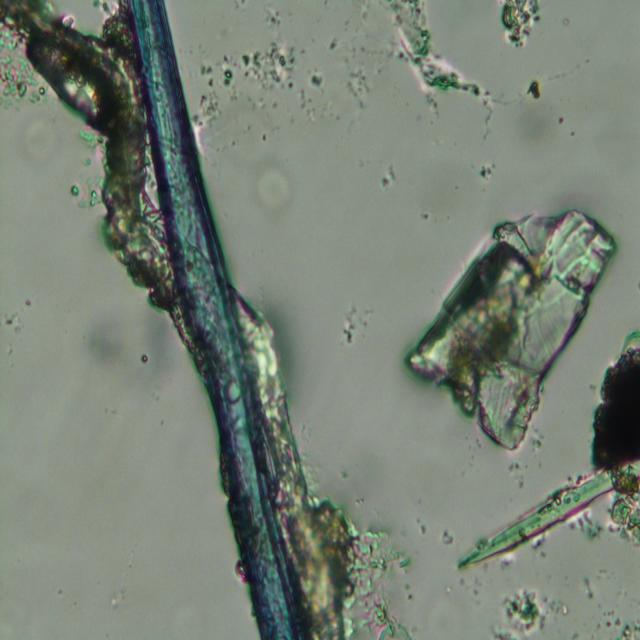Background material: (406, 207, 616, 453), (454, 462, 636, 573), (294, 464, 411, 636), (186, 29, 328, 128), (589, 330, 640, 544), (387, 0, 485, 100), (77, 297, 130, 393), (238, 149, 298, 224), (580, 568, 640, 639), (133, 303, 175, 398), (18, 108, 64, 170), (499, 581, 547, 638), (0, 35, 40, 103), (0, 302, 38, 361), (499, 0, 541, 48), (346, 55, 374, 114), (340, 301, 374, 342), (506, 459, 528, 489), (437, 524, 457, 550), (378, 164, 398, 188), (477, 158, 495, 183), (528, 80, 542, 104), (325, 34, 341, 54), (537, 434, 545, 458)
Cellulose filter fibre: (2, 0, 172, 303)
Cotton: (127, 0, 308, 639)
